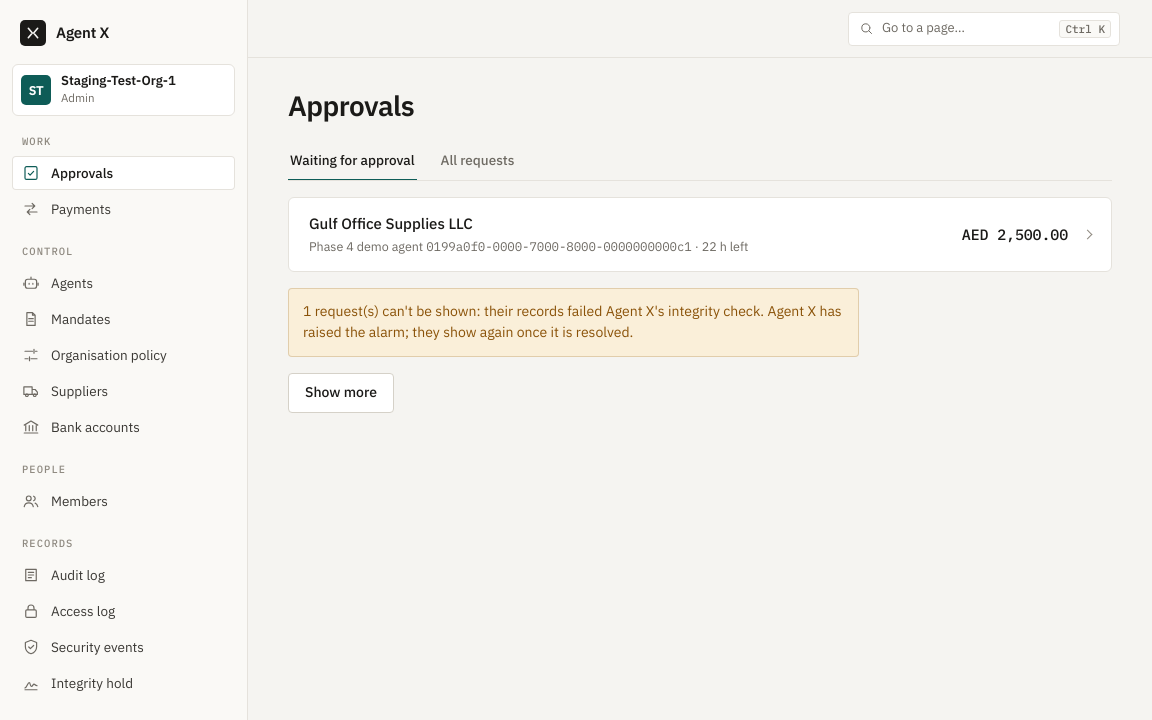
Scenario: the approvals lists (6B1) › reads the next page on Show more, and says how many couldn’t be shown
Check: the text "1 request(s) can't be shown" is shown, box [303,302,842,341]
What coordinates should you click on to do the following:
click the button "Show more"
I would click on:
 (341, 393)
Its box is [288,373,394,413].
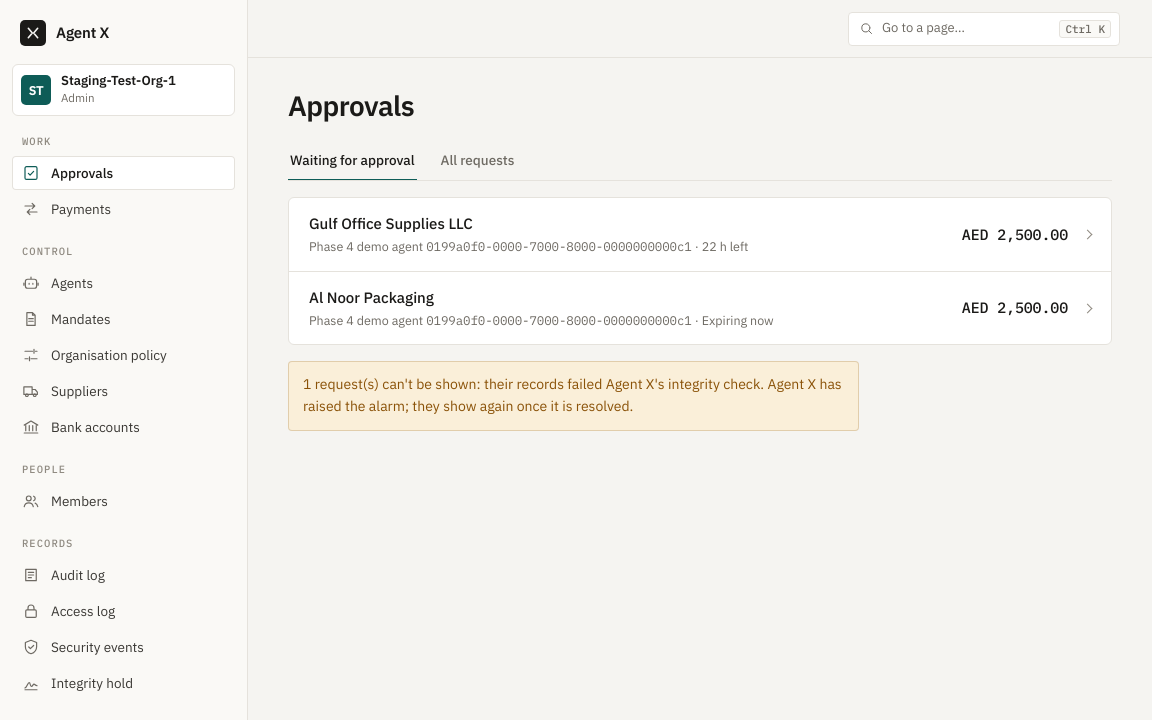
Check: the text "Al Noor Packaging" is shown, box [309,288,434,307]
Check: the text "Expiring now" is shown, box [702,312,774,328]
Check: the button "Show more" is gone
